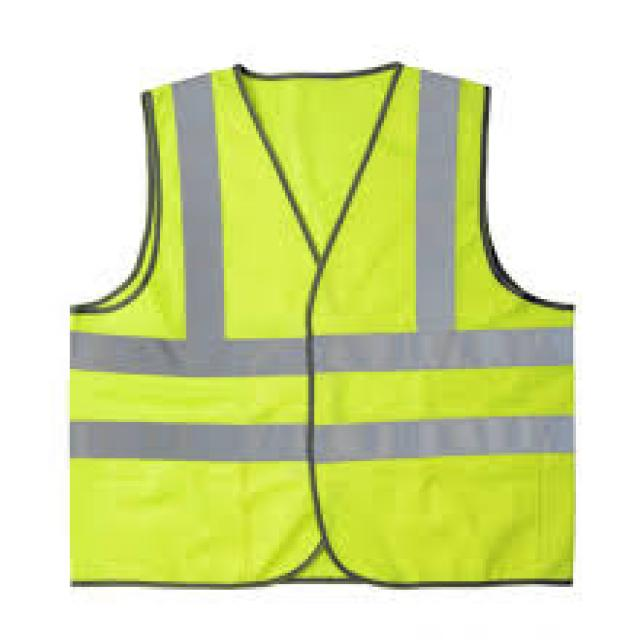Reflective-Jacket: (61, 39, 599, 615)
